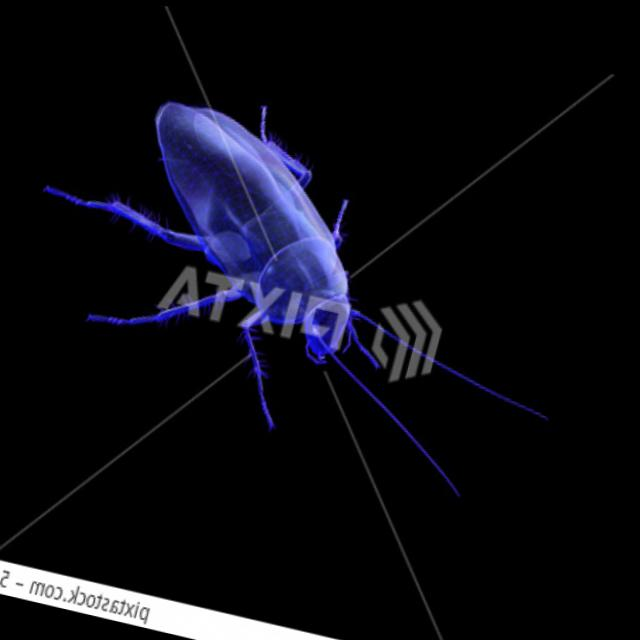Cockroach: (0, 53, 628, 522)
